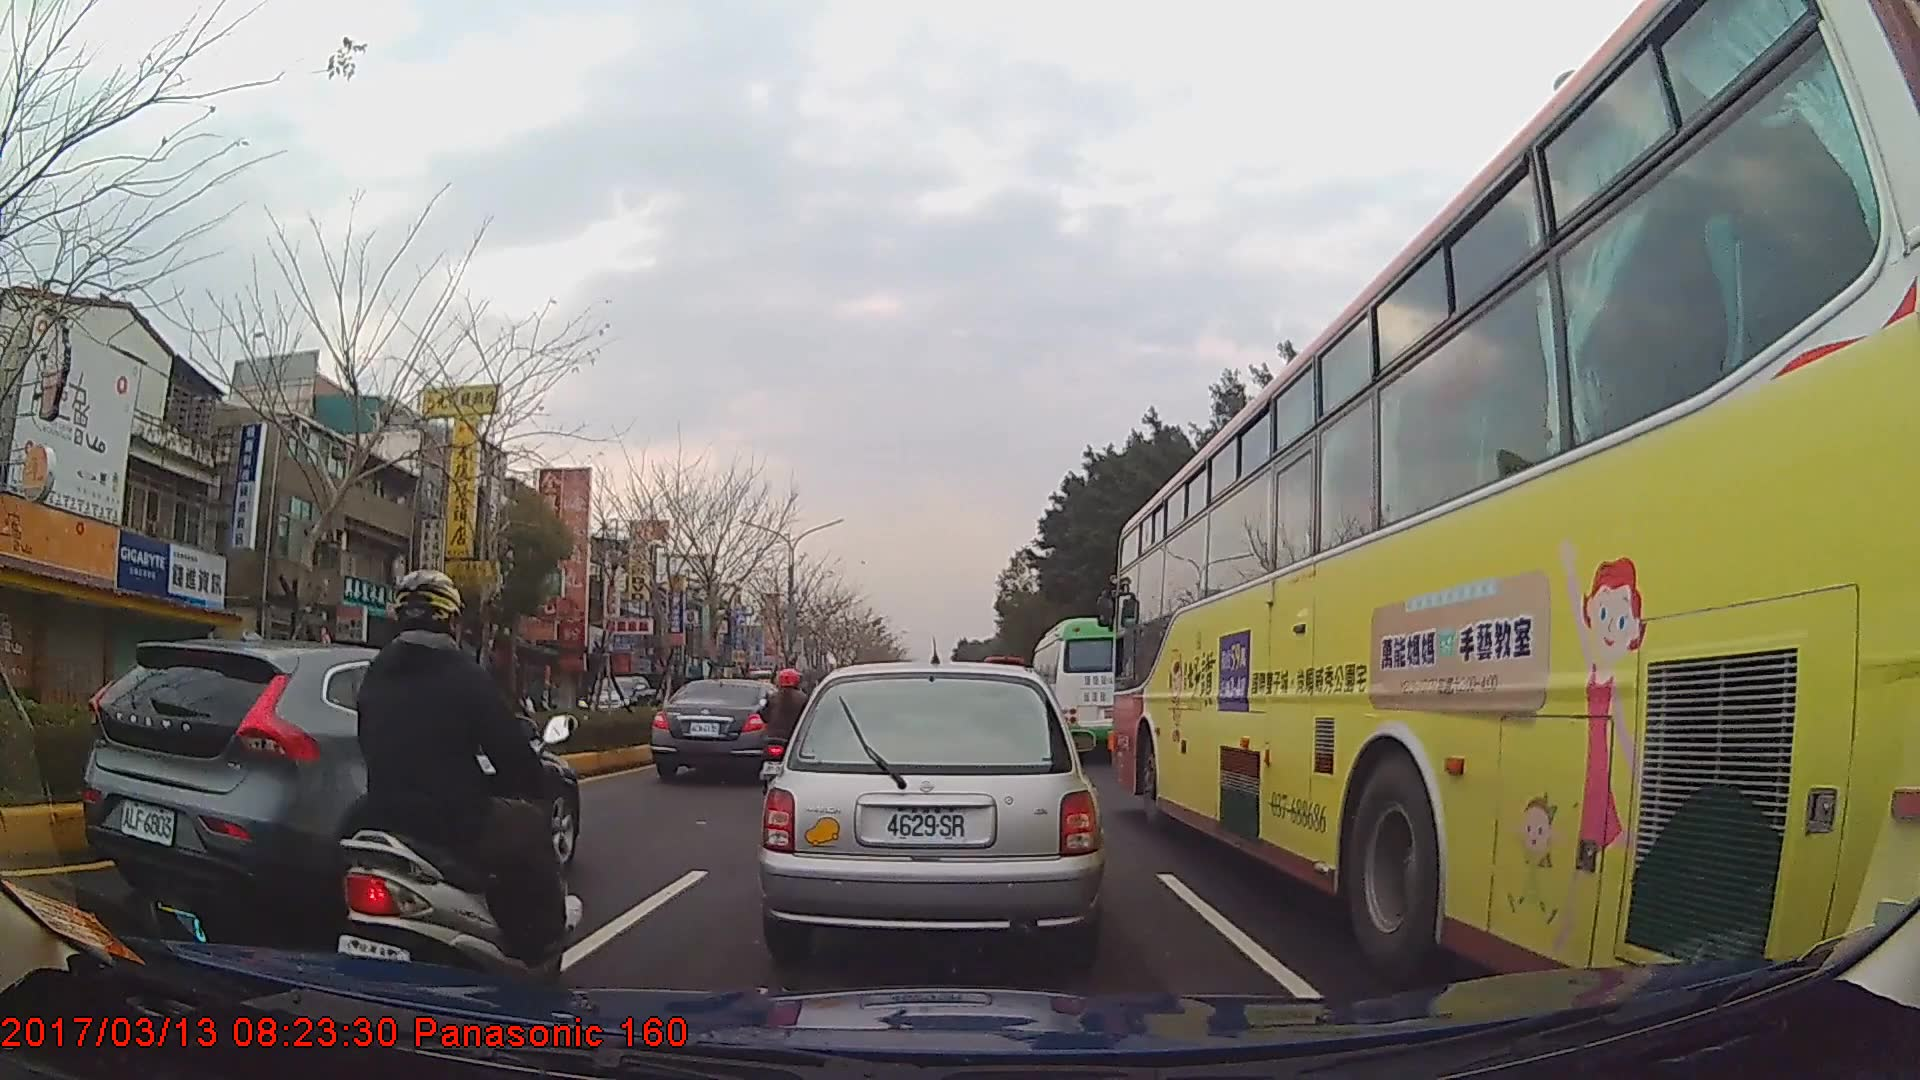rider: (344, 567, 579, 988), (760, 667, 818, 793)
vehicle: (1109, 0, 1920, 1011), (77, 635, 579, 926), (758, 659, 1105, 963), (1030, 614, 1146, 758), (651, 674, 800, 784), (579, 673, 664, 730)
